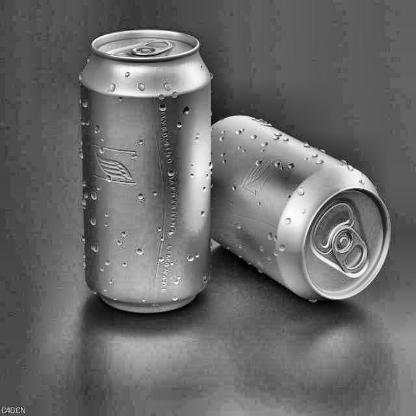Can: (74, 20, 214, 334), (210, 113, 402, 321)
